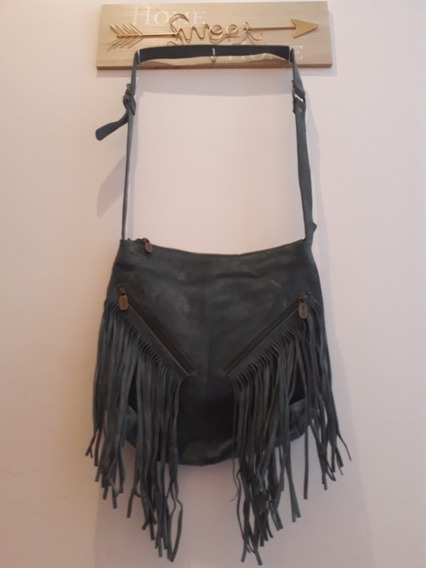cartera: (91, 41, 338, 470)
